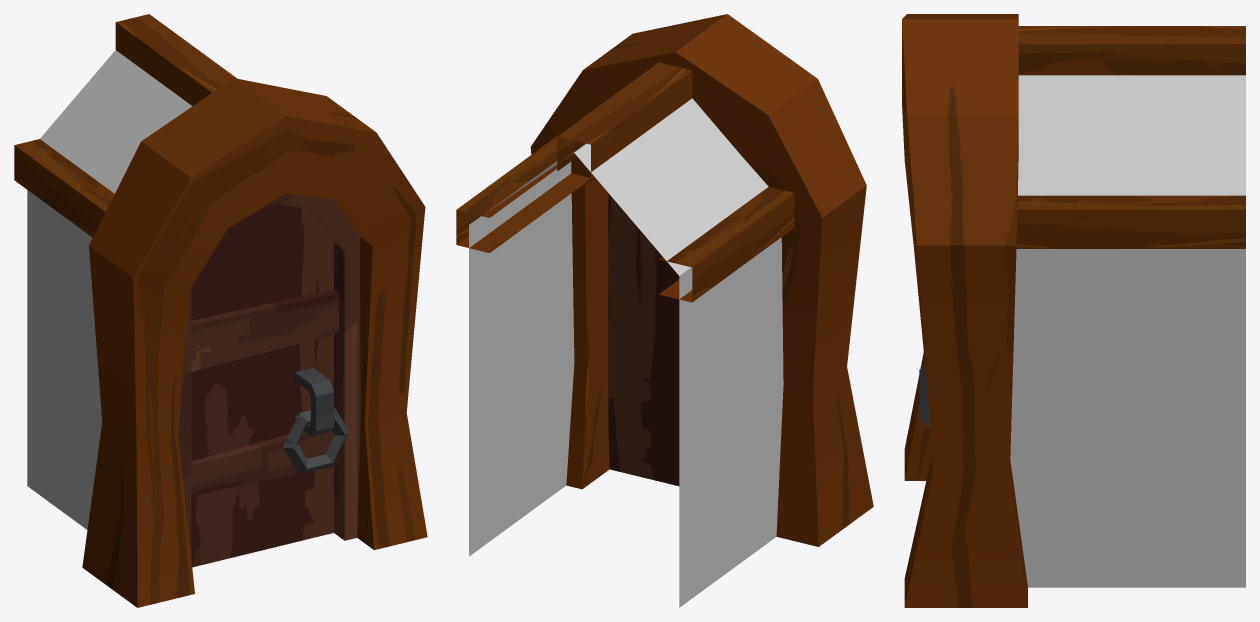
The model's file is SM_BLD_door_v03_01.fbx.
3 views of the same model, side by side, from view 1: azimuth 30°, elevation 25°; view 2: azimuth 150°, elevation 25°; view 3: azimuth 270°, elevation 25° (orthographic). The views are drawn at different scales.
Visible parts, largest first — view 1: SM_BLD_door_v03_01; view 2: SM_BLD_door_v03_01; view 3: SM_BLD_door_v03_01.
Part boxes in pixels (left/top/right/bottom): SM_BLD_door_v03_01: left=14, top=14, right=427, bottom=607; SM_BLD_door_v03_01: left=456, top=14, right=873, bottom=607; SM_BLD_door_v03_01: left=902, top=14, right=1245, bottom=607.
Bounding box in the file's own units: 195 × 290 × 177.
